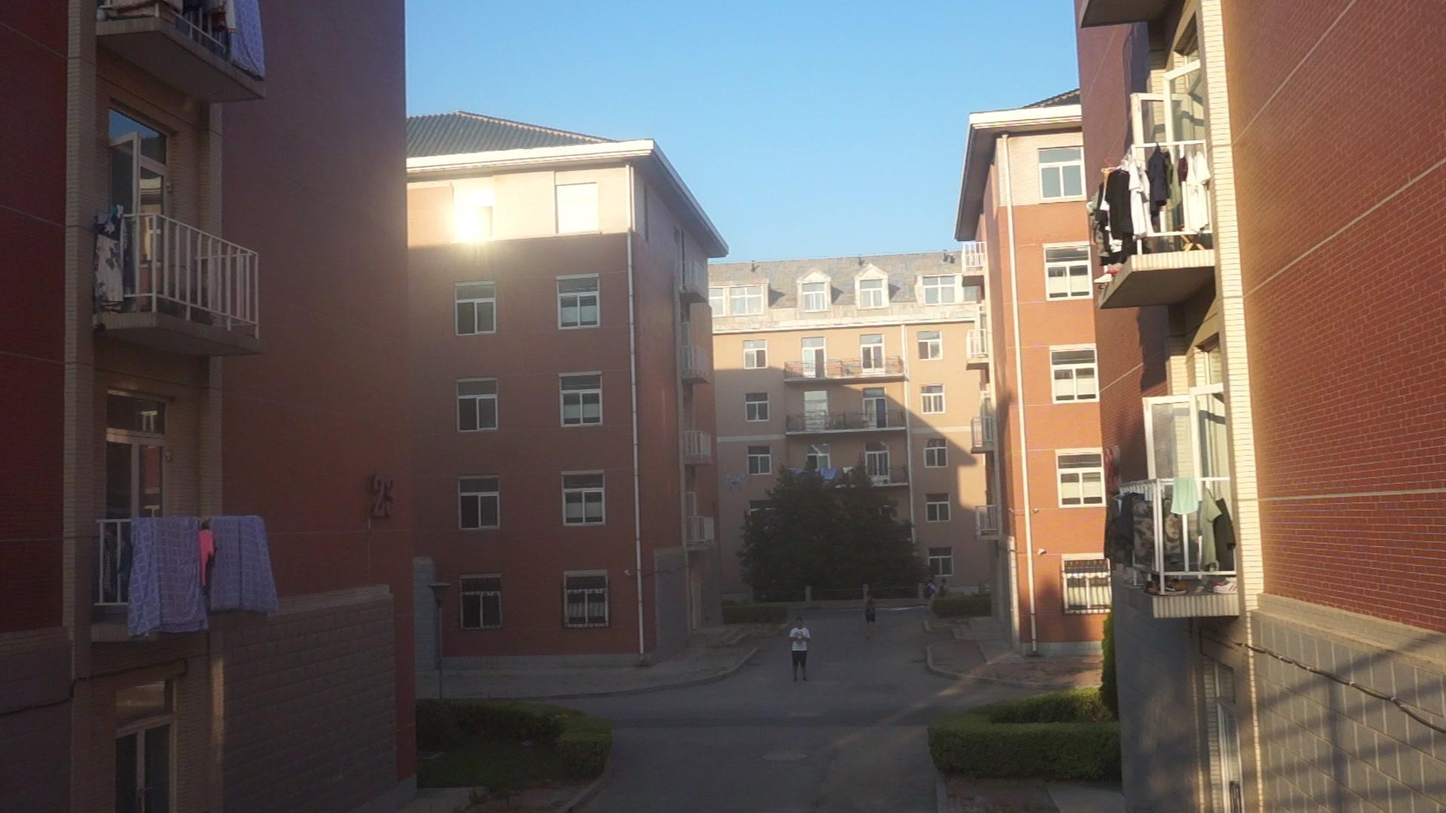UAV: (725, 474, 749, 492)
